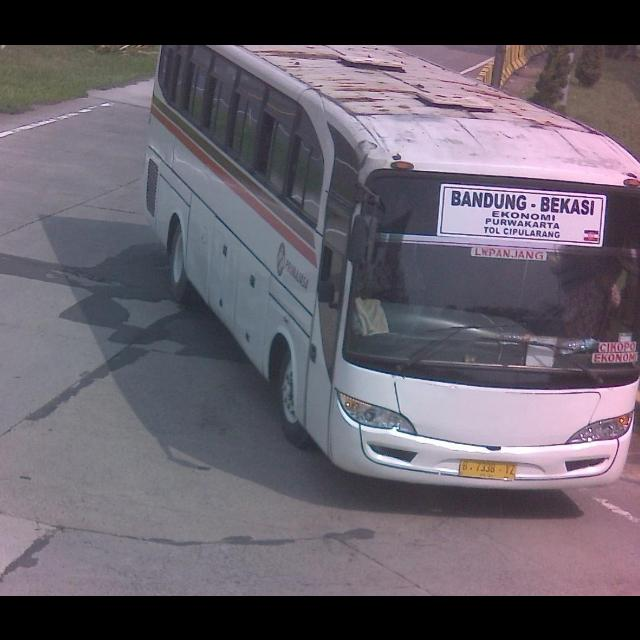plate: (458, 456, 520, 482)
